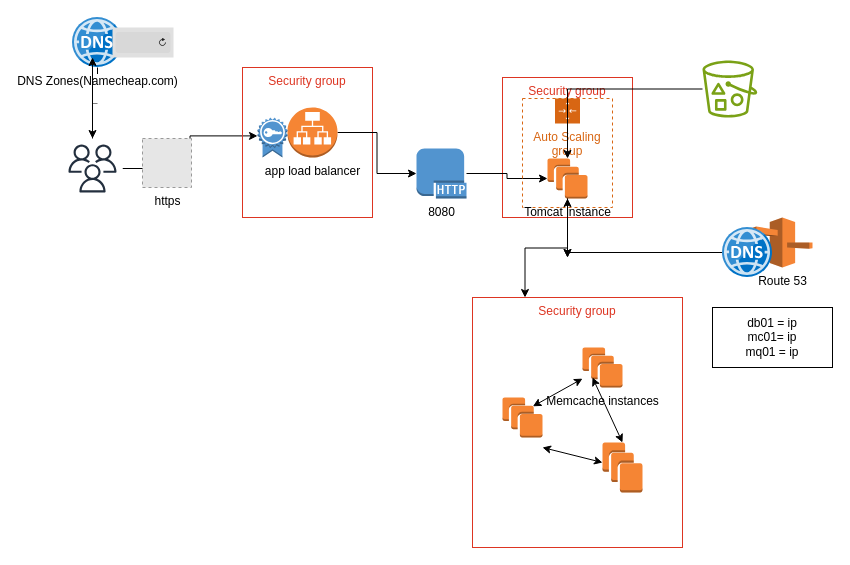
The diagram is 850 pixels wide and 565 high, and some of its shapes have lost their labels. Grey dashed boxes stand in for pictures. The shapes that lost their labels are listed below. From the top down, each one's box as (x1, y1, x2, y2) in pixels, then its label:
(112, 26, 174, 58): url.com
(702, 60, 757, 117): s3 Bucket
(62, 138, 122, 198): Users
(722, 227, 772, 277): Private DNS zones
(502, 396, 542, 438): Rabbit MQ instances
(602, 442, 642, 492): MySQL instances
